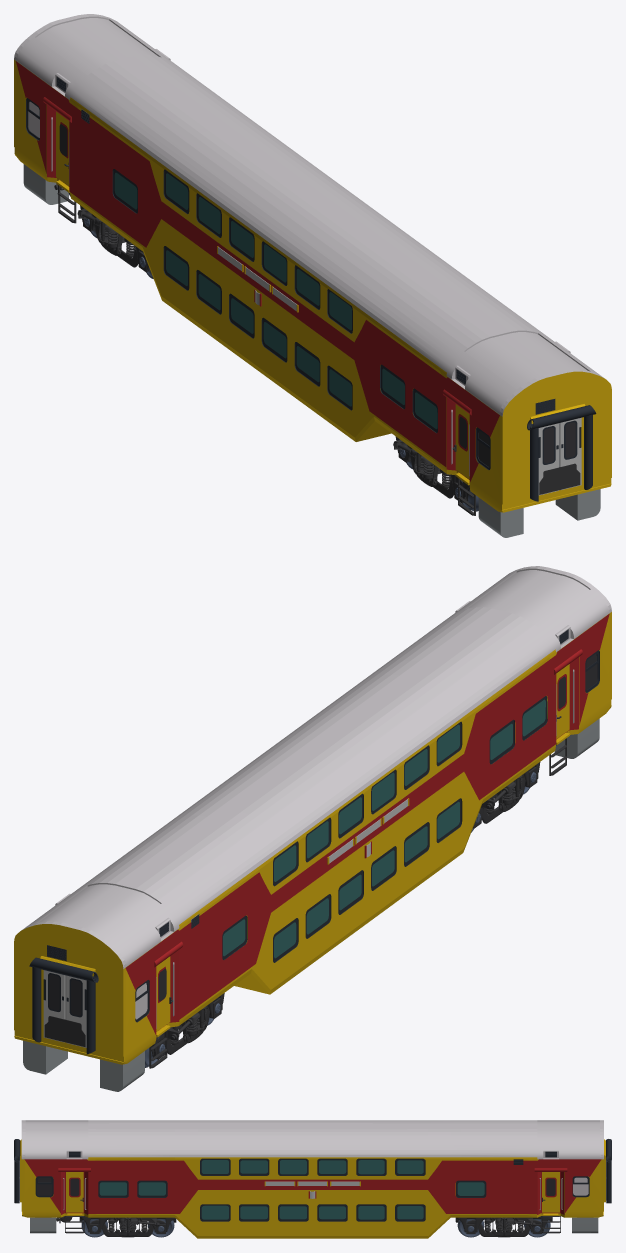
The model's file is doubledecker.glb.
3 views of the same model, one above another, from view 1: azimuth 30°, elevation 25°; view 2: azimuth 150°, elevation 25°; view 3: azimuth 270°, elevation 25° (orthographic). The views are drawn at different scales.
Visible parts, largest first — view 1: polySurface15, pCylinder5, pCube59, pasted__Mesh, pasted__Mesh1, pasted__polySurface4, pCube60, pasted__polySurface6; view 2: polySurface15, pCylinder6, pCube60, pasted__Mesh1, pasted__Mesh, pasted__polySurface6, pCube59, pasted__polySurface4; view 3: polySurface15, pasted__Mesh, pasted__Mesh1, pasted__polySurface6, pasted__polySurface4, pCube55, pCube59, pCube60, pCylinder6, pCylinder5.
Part boxes in pixels (x1=…): polySurface15: x1=14, y1=14, x2=611, y2=512; pCylinder5: x1=527, y1=405, x2=596, y2=501; pCube59: x1=478, y1=489, x2=600, y2=537; pasted__Mesh: x1=393, y1=436, x2=478, y2=511; pasted__Mesh1: x1=77, y1=205, x2=153, y2=278; pasted__polySurface4: x1=452, y1=404, x2=469, y2=479; pCube60: x1=23, y1=164, x2=68, y2=204; pasted__polySurface6: x1=56, y1=111, x2=69, y2=186; polySurface15: x1=14, y1=566, x2=611, y2=1064; pCylinder6: x1=29, y1=957, x2=98, y2=1054; pCube60: x1=23, y1=1040, x2=144, y2=1091; pasted__Mesh1: x1=145, y1=993, x2=224, y2=1067; pasted__Mesh: x1=471, y1=762, x2=540, y2=832; pasted__polySurface6: x1=156, y1=956, x2=172, y2=1031; pCube59: x1=554, y1=718, x2=599, y2=758; pasted__polySurface4: x1=556, y1=664, x2=569, y2=738; polySurface15: x1=21, y1=1120, x2=603, y2=1238; pasted__Mesh: x1=79, y1=1216, x2=176, y2=1237; pasted__Mesh1: x1=455, y1=1216, x2=552, y2=1237; pasted__polySurface6: x1=542, y1=1172, x2=559, y2=1212; pasted__polySurface4: x1=66, y1=1172, x2=83, y2=1212; pCube55: x1=264, y1=1181, x2=360, y2=1186; pCube59: x1=30, y1=1217, x2=56, y2=1233; pCube60: x1=572, y1=1217, x2=598, y2=1233; pCylinder6: x1=606, y1=1139, x2=611, y2=1203; pCylinder5: x1=14, y1=1139, x2=19, y2=1203.
Bounding box in the file's own units: 0.032 × 0.047 × 0.2455.
